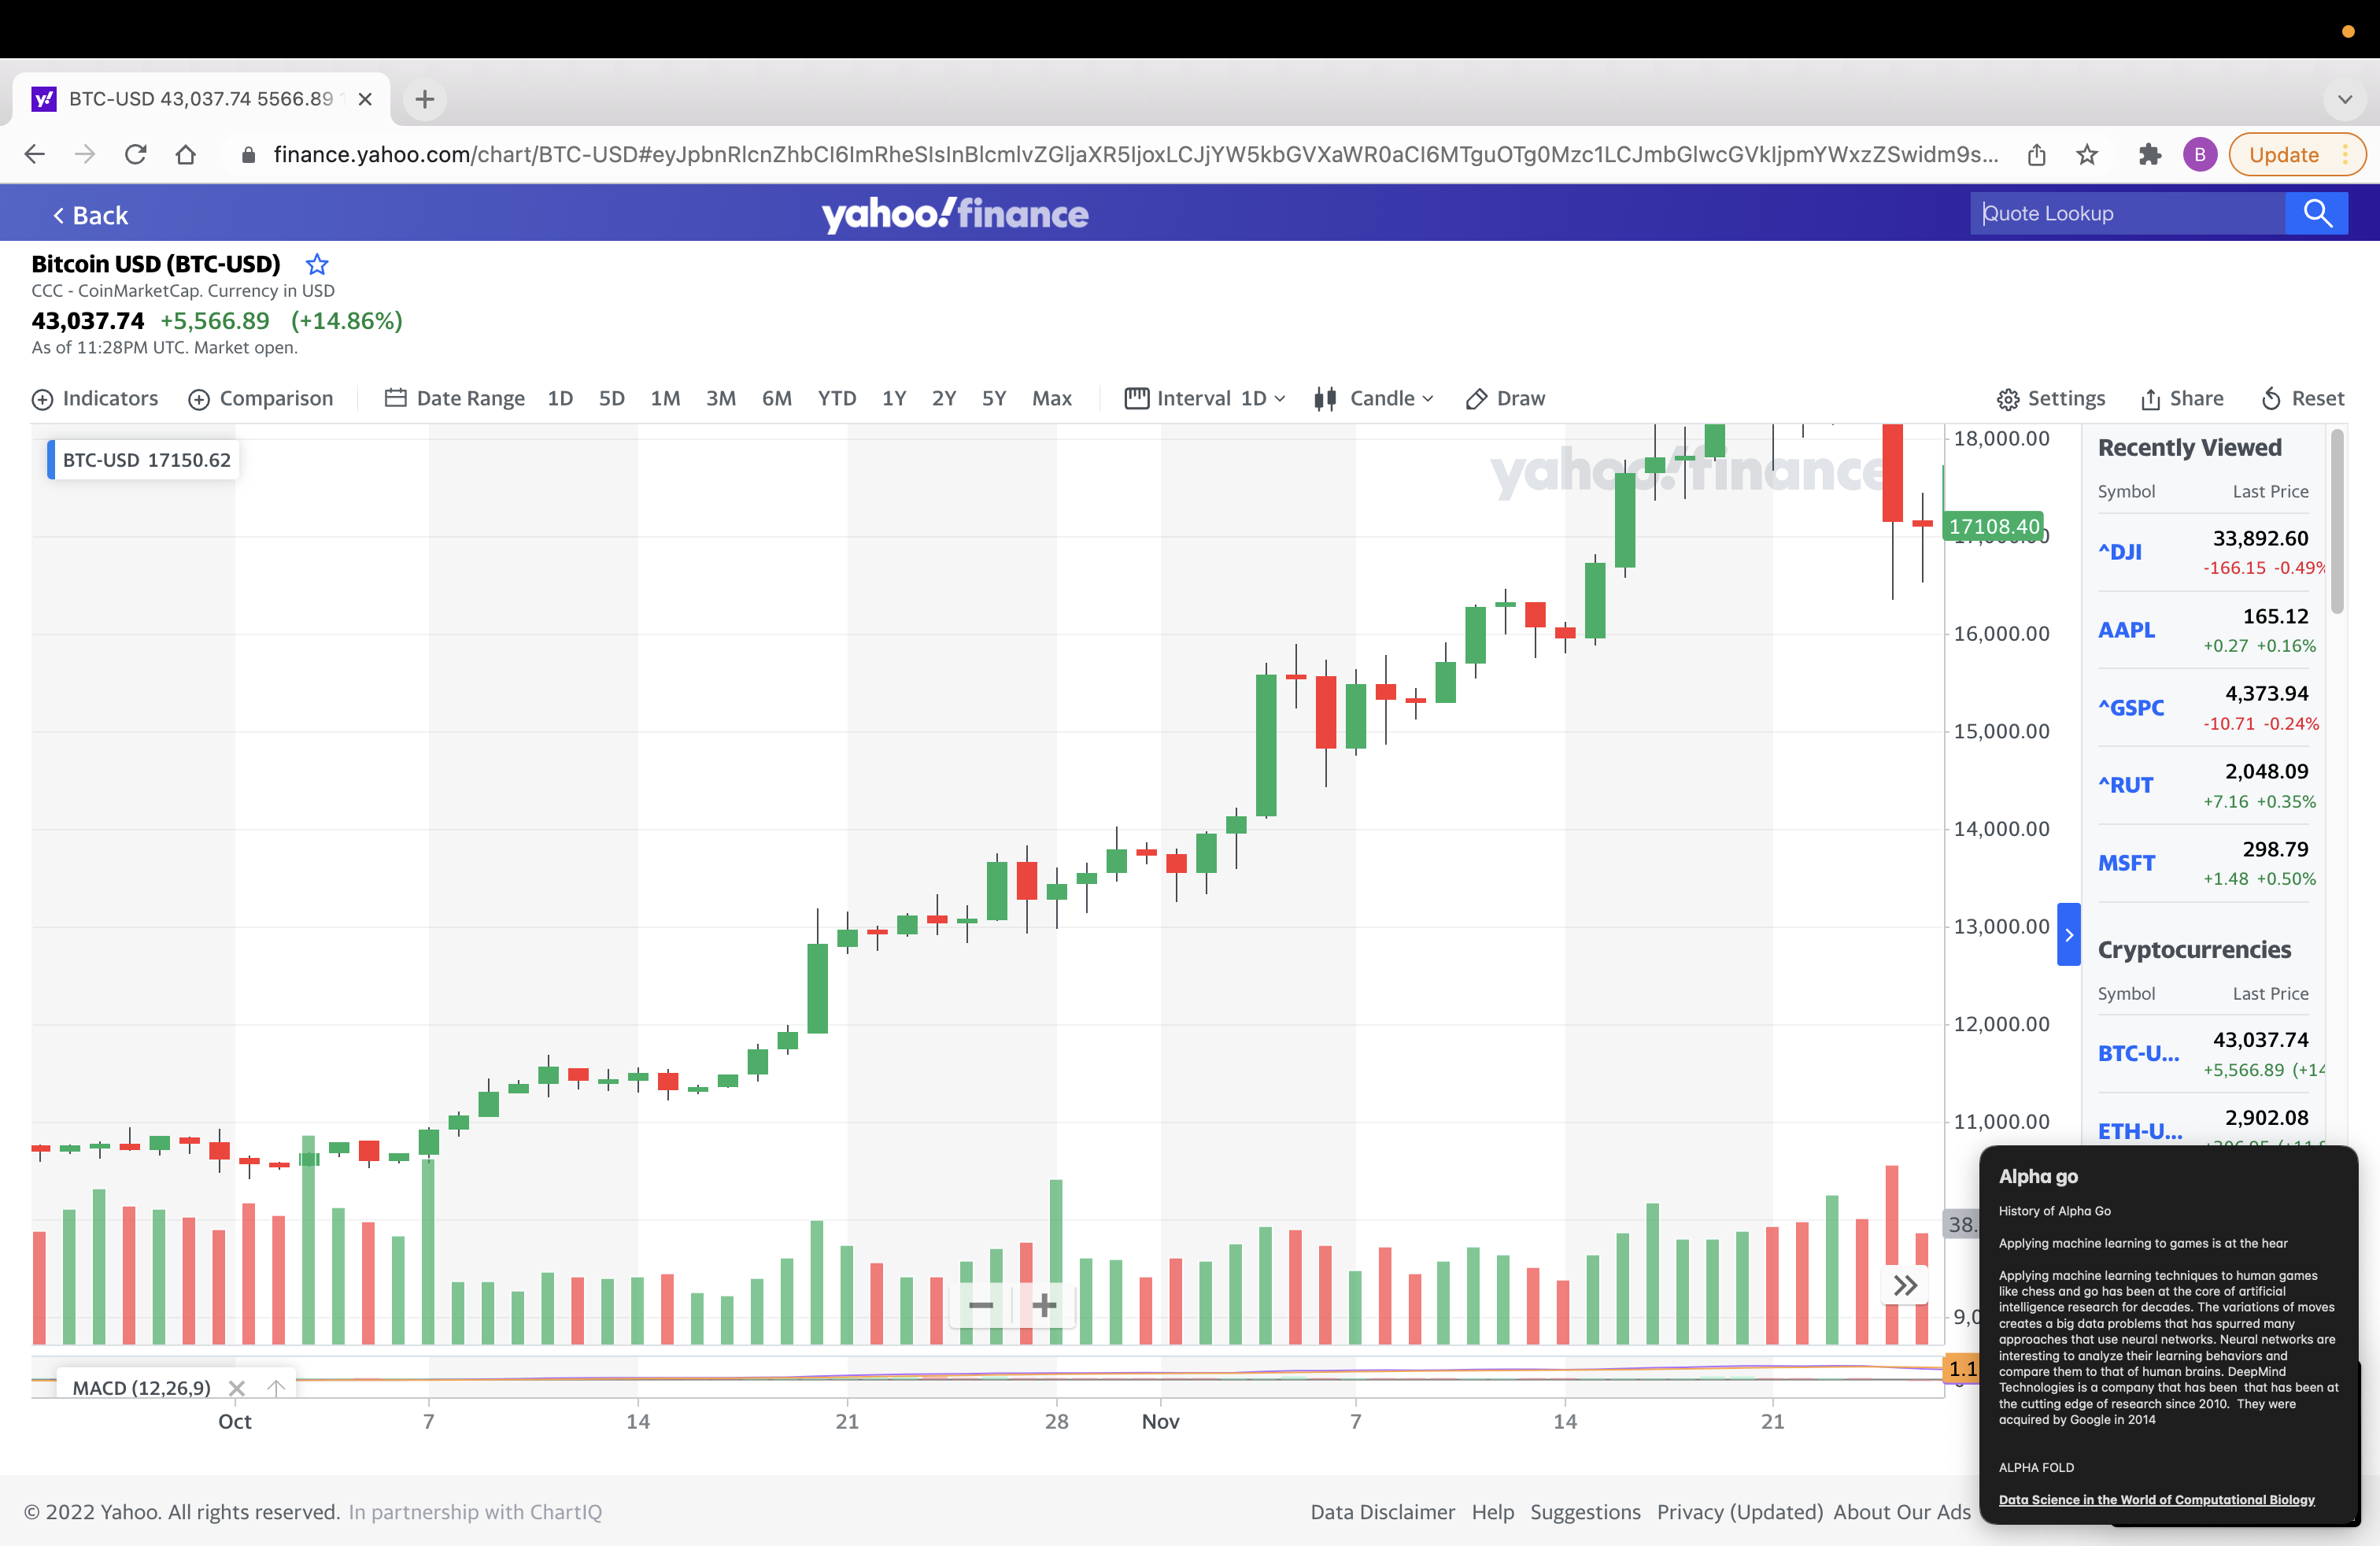Three White Soldiers: (1528, 777, 1625, 1010)
